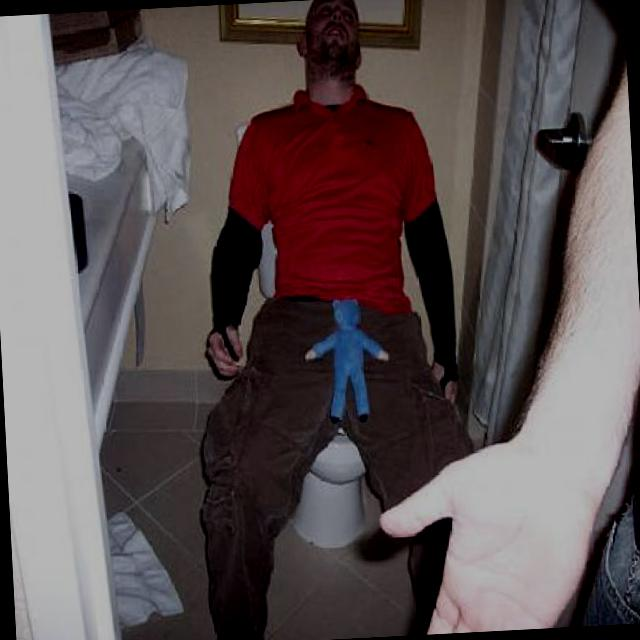Person: (170, 0, 479, 634), (351, 54, 640, 629)
